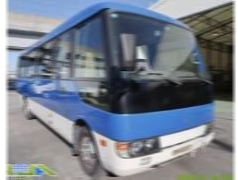bus: (15, 2, 216, 177)
